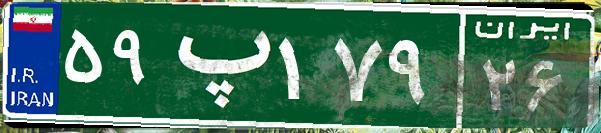1: (273, 28, 330, 110)
2: (475, 38, 525, 113)
5: (57, 26, 110, 107)
6: (525, 38, 570, 115)
7: (330, 28, 385, 110)
9: (385, 28, 445, 110), (110, 28, 158, 105)
پ: (158, 15, 273, 115)
